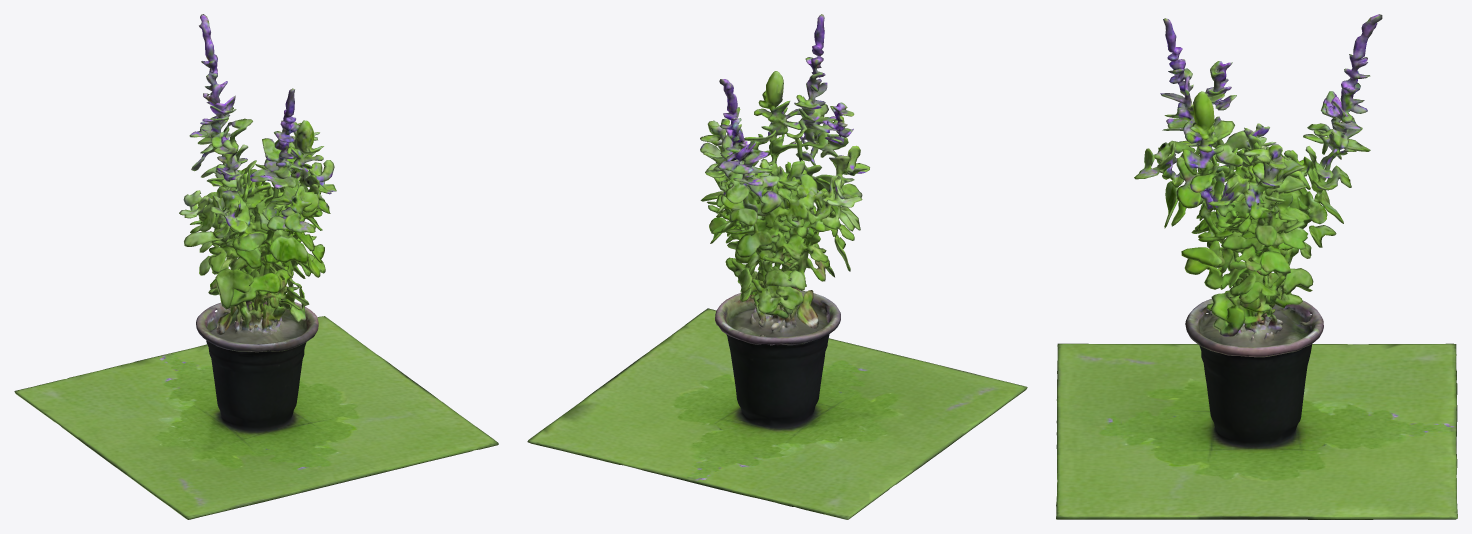
Rendered from Holy_Basil_Plant_0905080318.glb.
3 views of the same model, side by side, from view 1: azimuth 30°, elevation 25°; view 2: azimuth 150°, elevation 25°; view 3: azimuth 270°, elevation 25° (orthographic). The views are drawn at different scales.
Size of the model in its own units: 1.78 by 2 by 1.74.
Materials: 1 (1 with a texture image).
